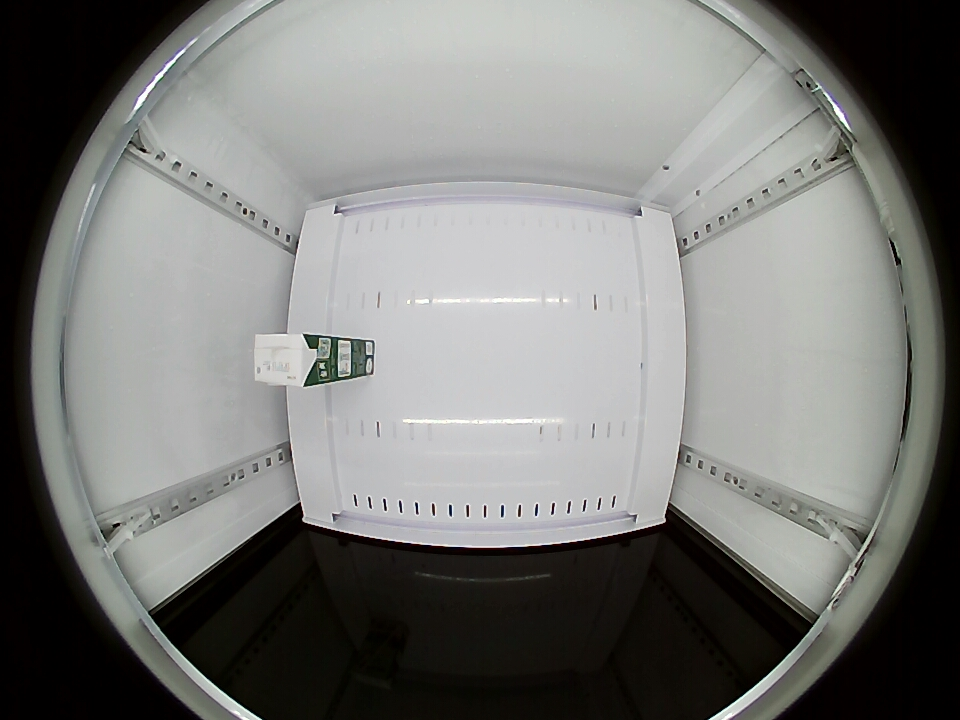jindian: (253, 332, 330, 388)
